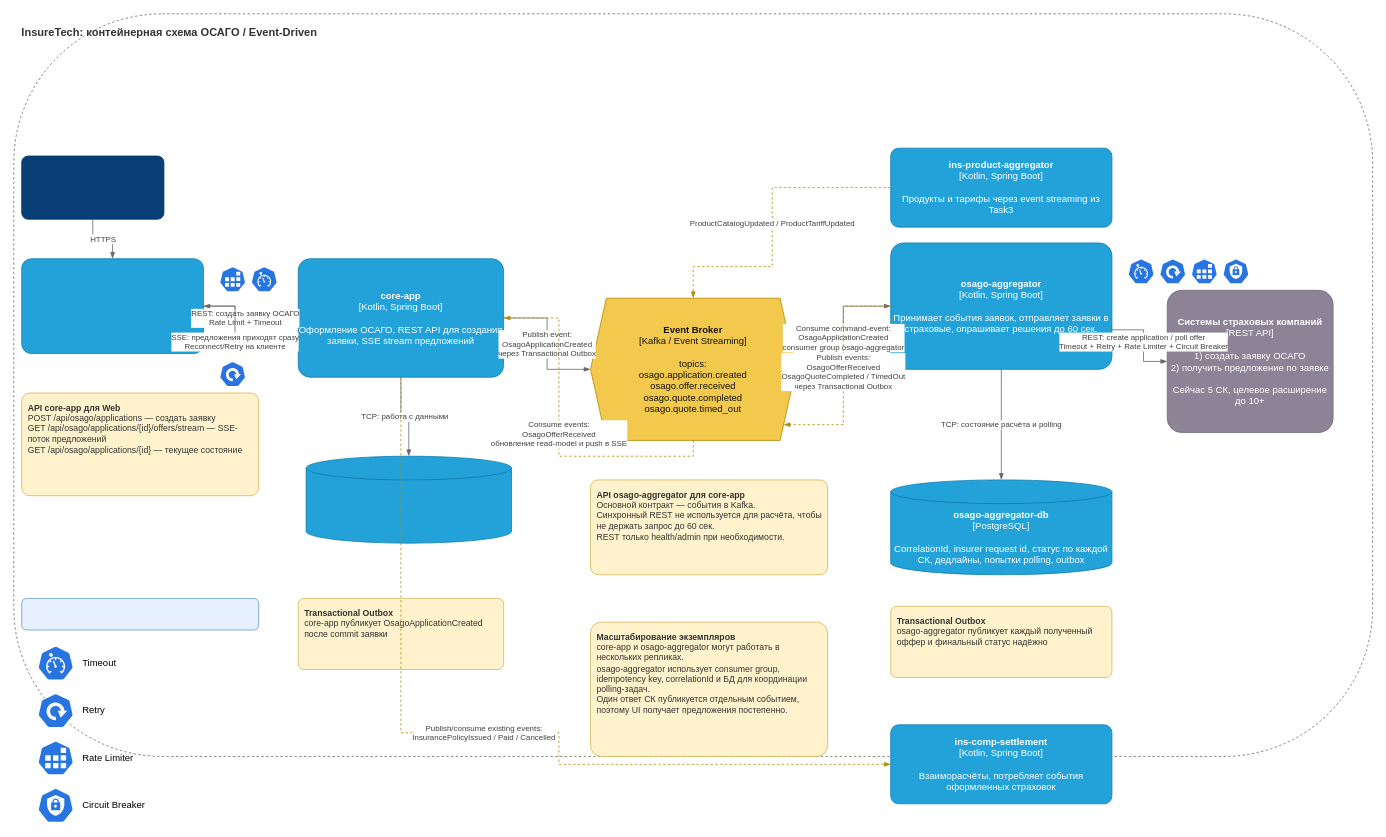
Some shapes in this 1386 by 837 pixel diagram are drawn without their labels. The shapes that lost their labels are listed below. From the top down, each one's centre as x and y in pixels, then its label:
[92,187]: Клиент [Person]
[112,306]: InsureTech Web [React] Форма ОСАГО, отображение предложений по мере поступления
[408,499]: core-db [PostgreSQL] Заявки ОСАГО, офферы, статус расчёта, outbox
[140,614]: Паттерны отказоустойчивости
